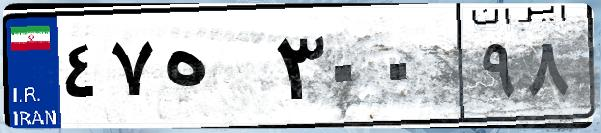0: (385, 28, 445, 110), (330, 28, 385, 110)
3: (270, 28, 330, 110)
4: (57, 26, 110, 100)
7: (110, 28, 158, 98)
8: (525, 38, 570, 115)
9: (475, 38, 525, 113)
ه: (158, 20, 270, 120)
